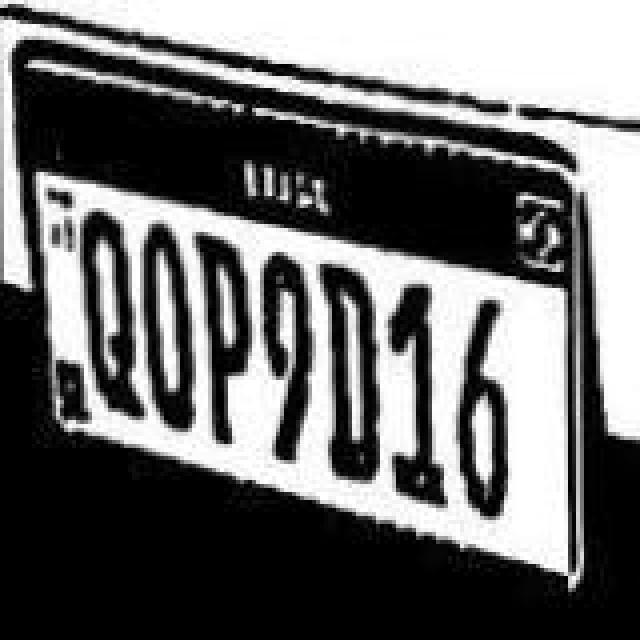1: (382, 278, 446, 514)
6: (454, 298, 510, 522)
9: (256, 246, 316, 466)
D: (318, 256, 382, 488)
O: (140, 218, 192, 434)
P: (192, 232, 252, 452)
Q: (80, 202, 148, 426)
